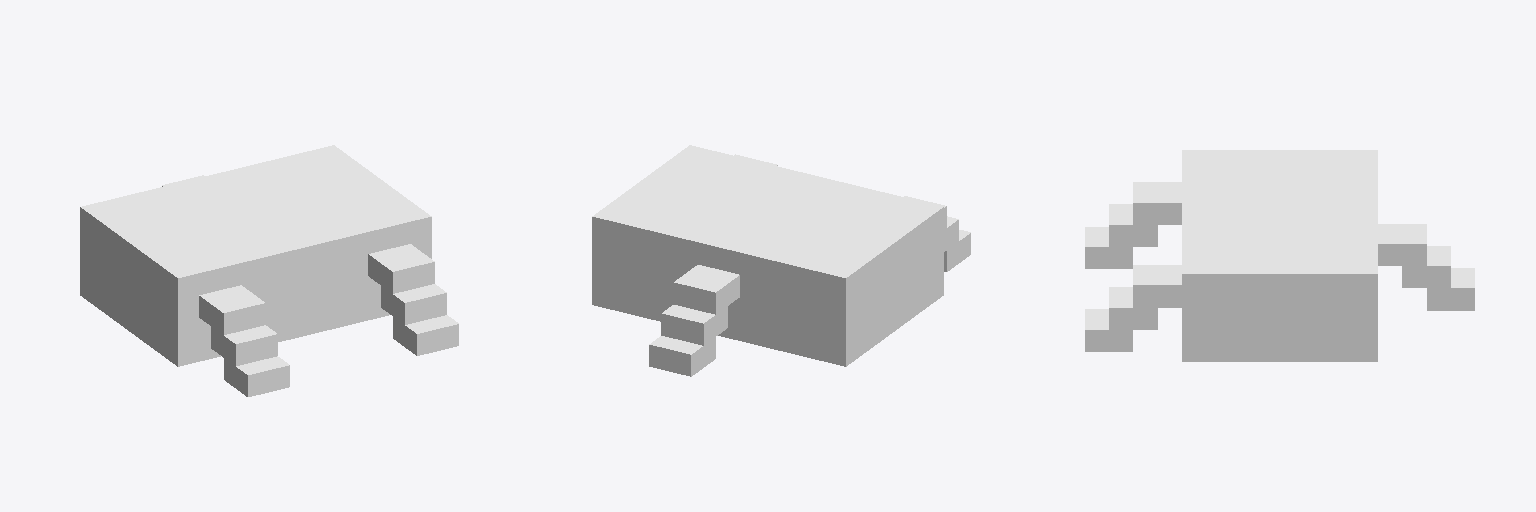
The model's file is transistor5.obj.
3 views of the same model, side by side, from view 1: azimuth 30°, elevation 25°; view 2: azimuth 150°, elevation 25°; view 3: azimuth 270°, elevation 25° (orthographic).
Parts seen in each view (by area): view 1: transistor5; view 2: transistor5; view 3: transistor5.
Boxes of the visible parts, x1=… form: transistor5: x1=80, y1=145, x2=458, y2=396; transistor5: x1=592, y1=145, x2=970, y2=376; transistor5: x1=1085, y1=150, x2=1474, y2=361.
Bounding box in the file's own units: 12 × 4 × 16.